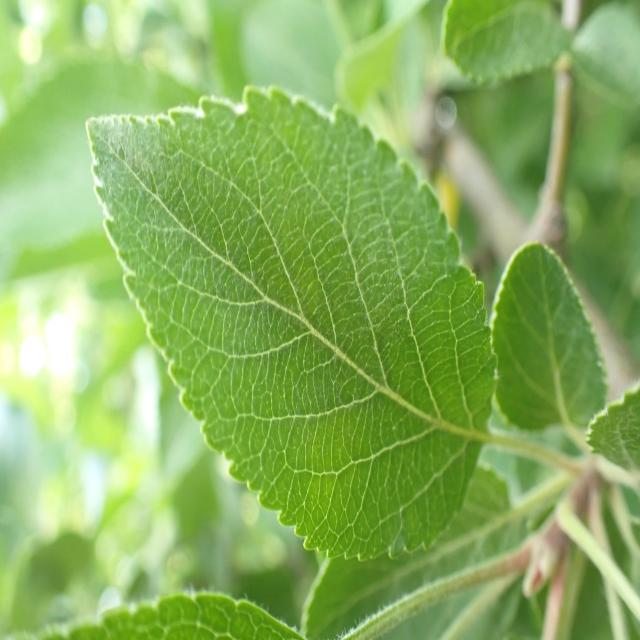healthy: (86, 82, 497, 562), (489, 240, 609, 432), (40, 591, 306, 640), (584, 381, 640, 472)
